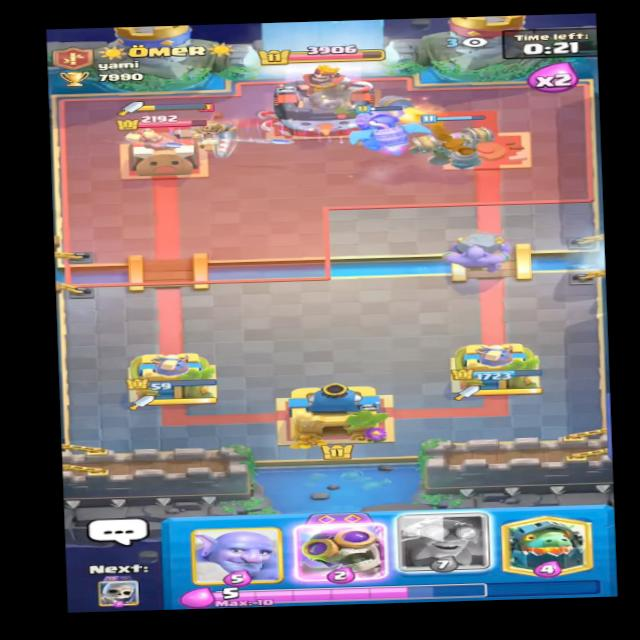prince: (235, 75, 295, 126)
